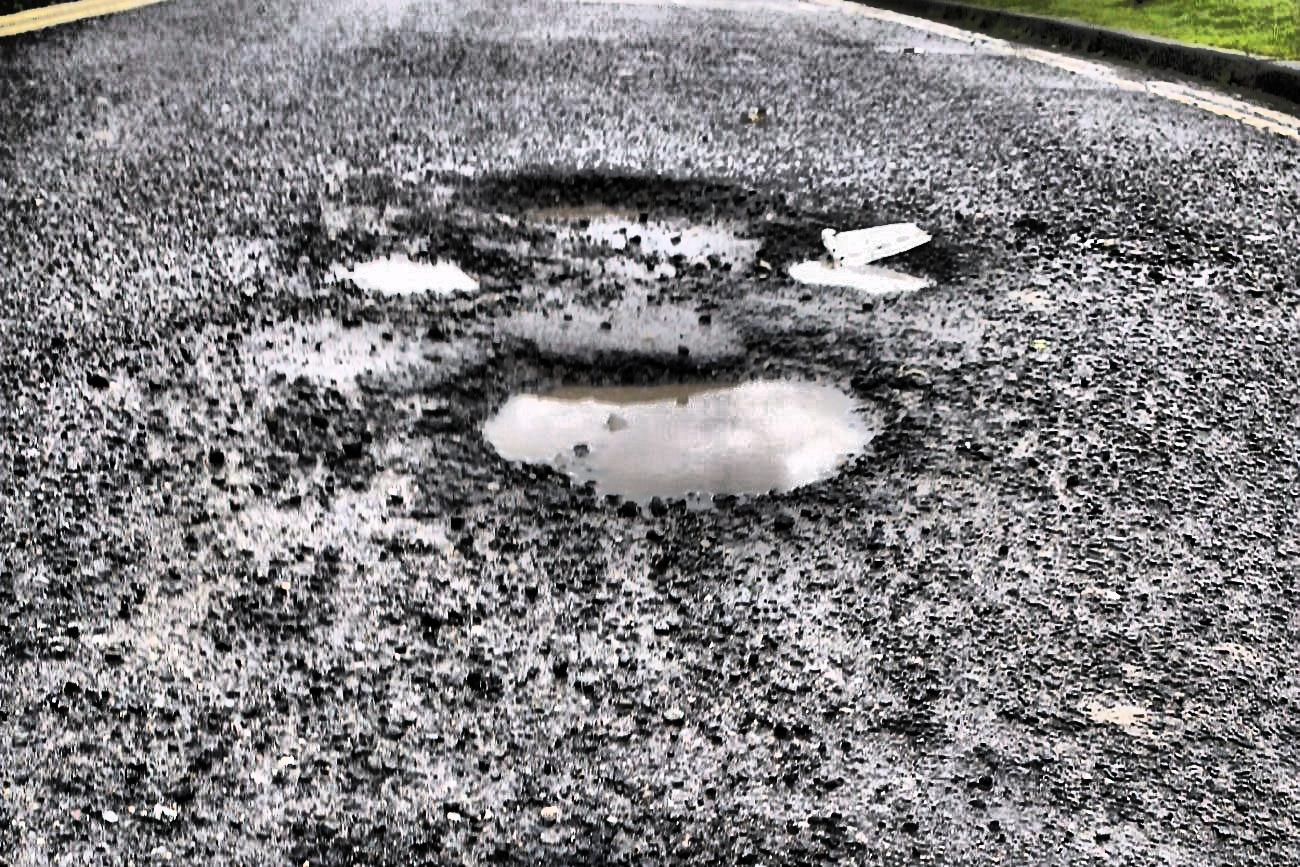pothole: (468, 340, 901, 525), (481, 169, 769, 265), (325, 240, 473, 308)
